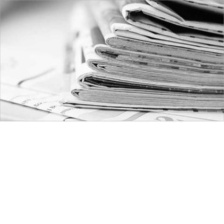news_paper: (56, 0, 224, 110)
